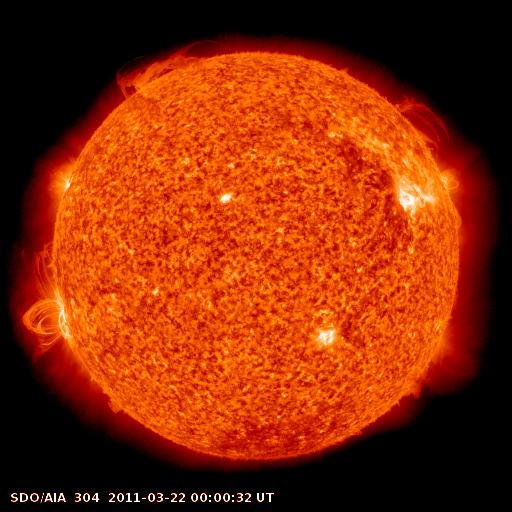prominence: (104, 32, 235, 105), (382, 89, 459, 159), (95, 388, 136, 428), (392, 370, 432, 407)
